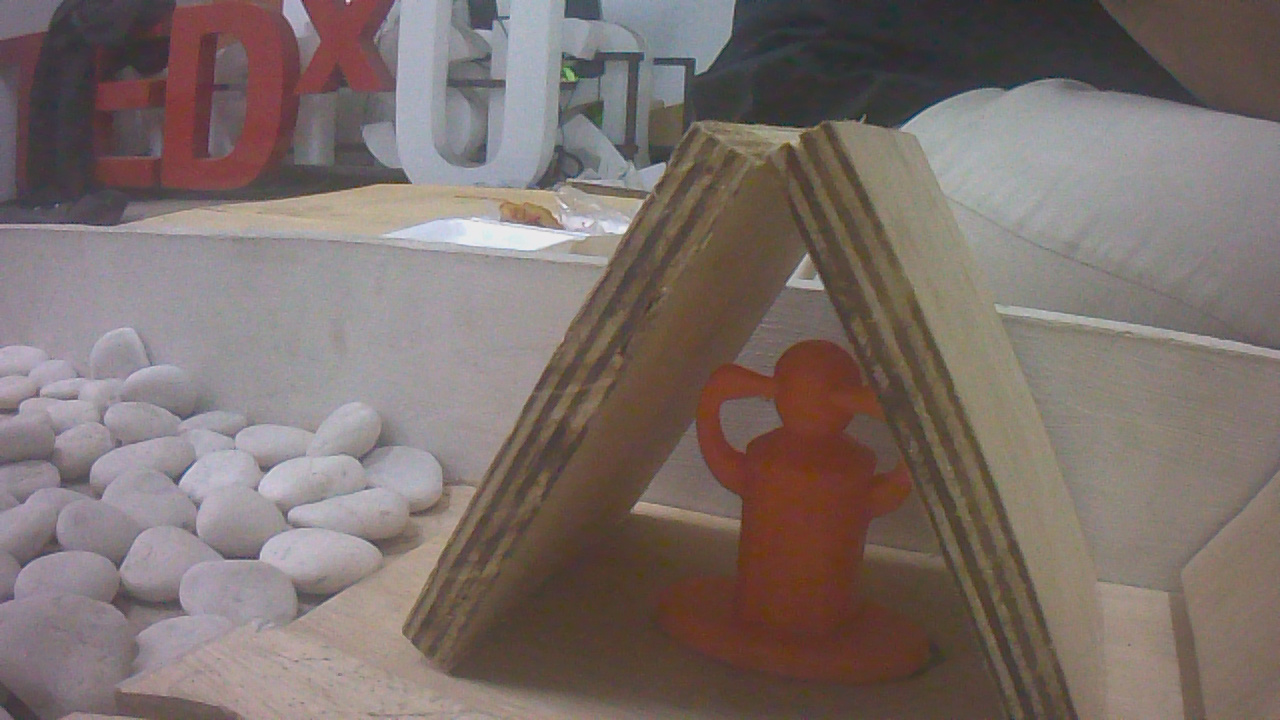real: (661, 334, 926, 686)
